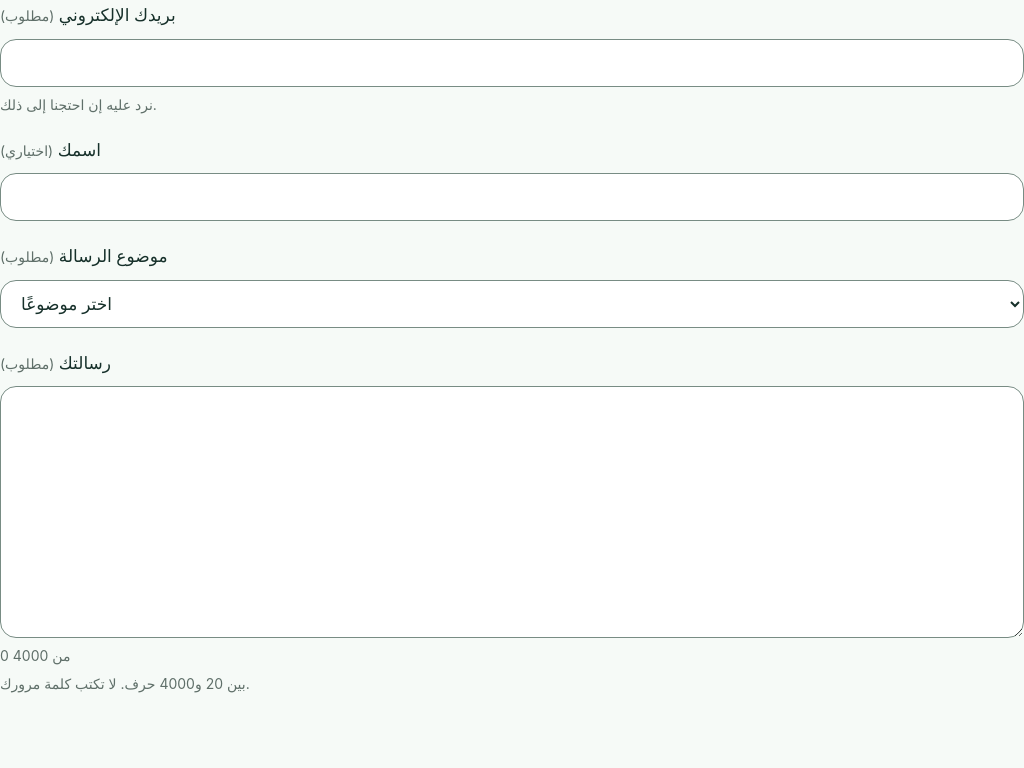
support form › sends the token, then resets the widget
In the field labelled "بريدك الإلكتروني (مطلوب)": (512,63) [0, 39, 1023, 87], type "ahmad@example.com"
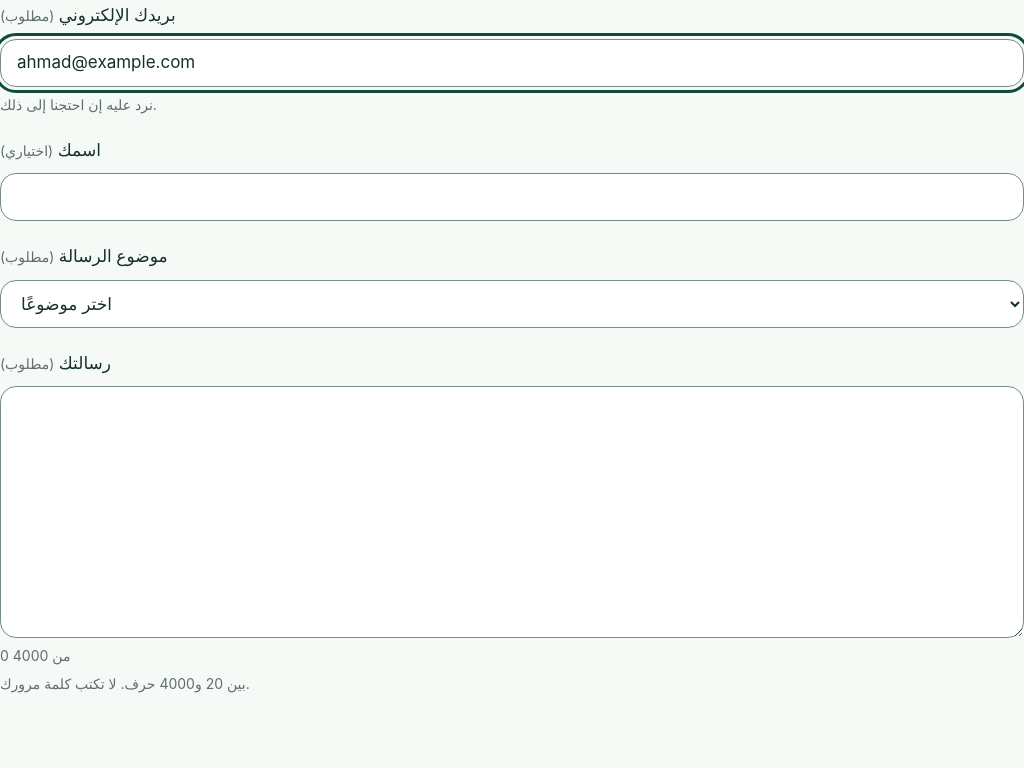
Select "خطأ في التطبيق" in the dropdown labelled "موضوع الرسالة (مطلوب)": (512,304) [0, 280, 1023, 328]
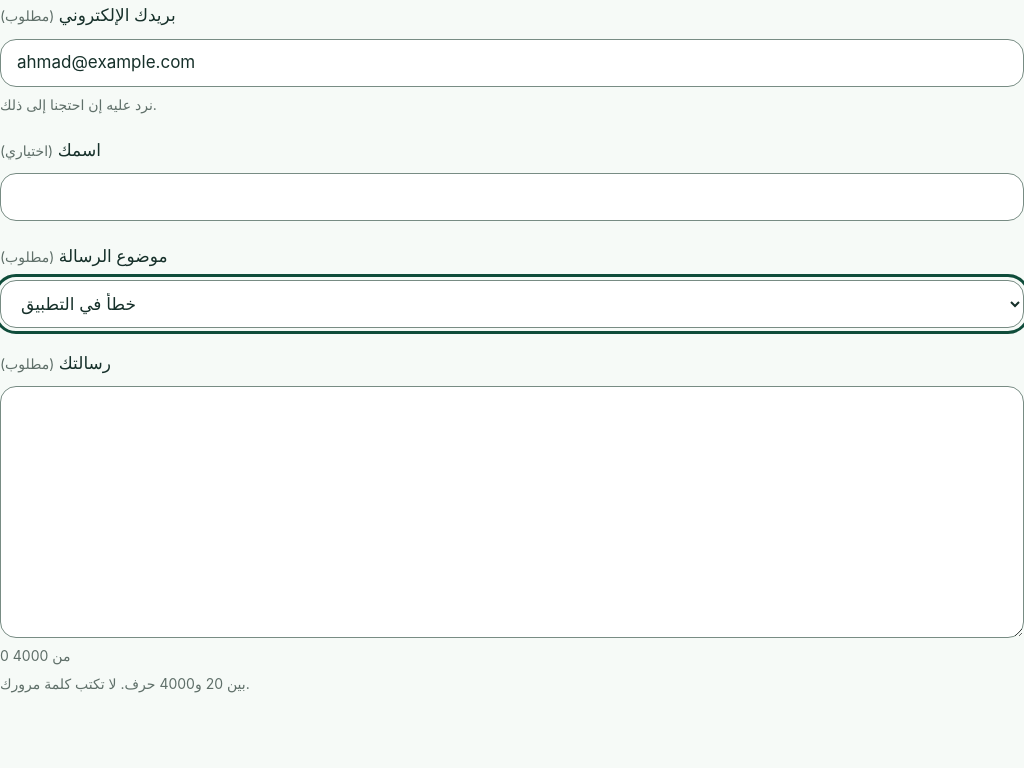
In the text box labelled "رسالتك (مطلوب)": (512,512) [0, 386, 1023, 638], type "مرحبًا، أحتاج مساعدة في حسابي من فضلكم."
(page scrolled)
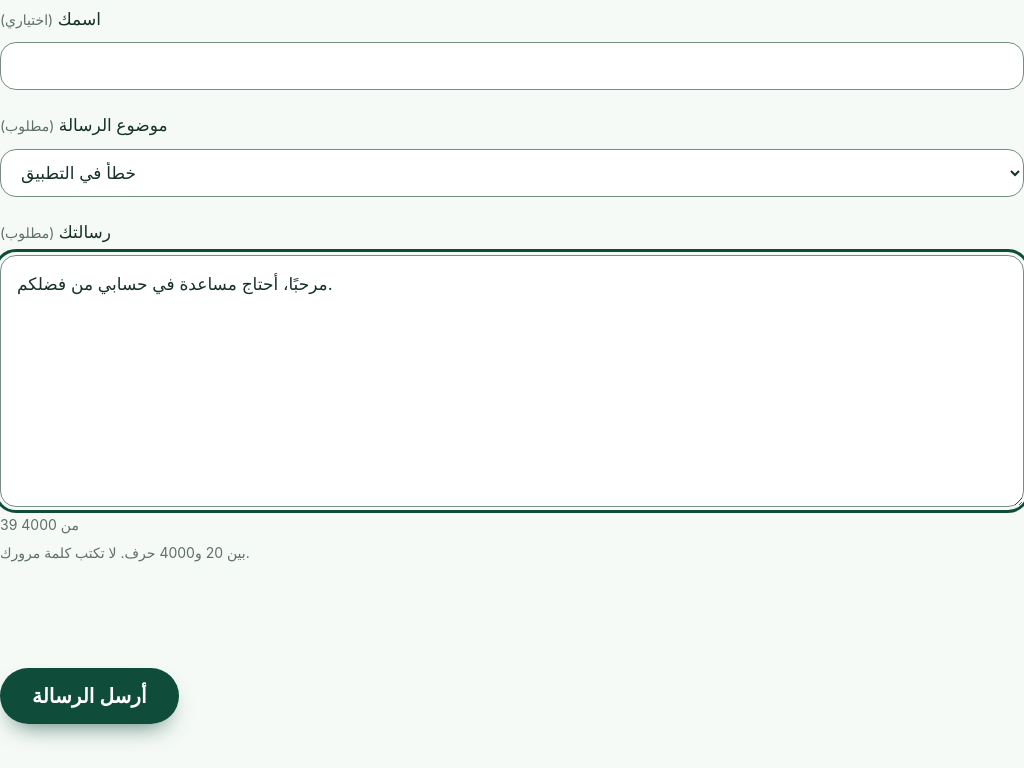
Click the button "أرسل الرسالة": (89,696) [0, 668, 178, 724]
(page scrolled)
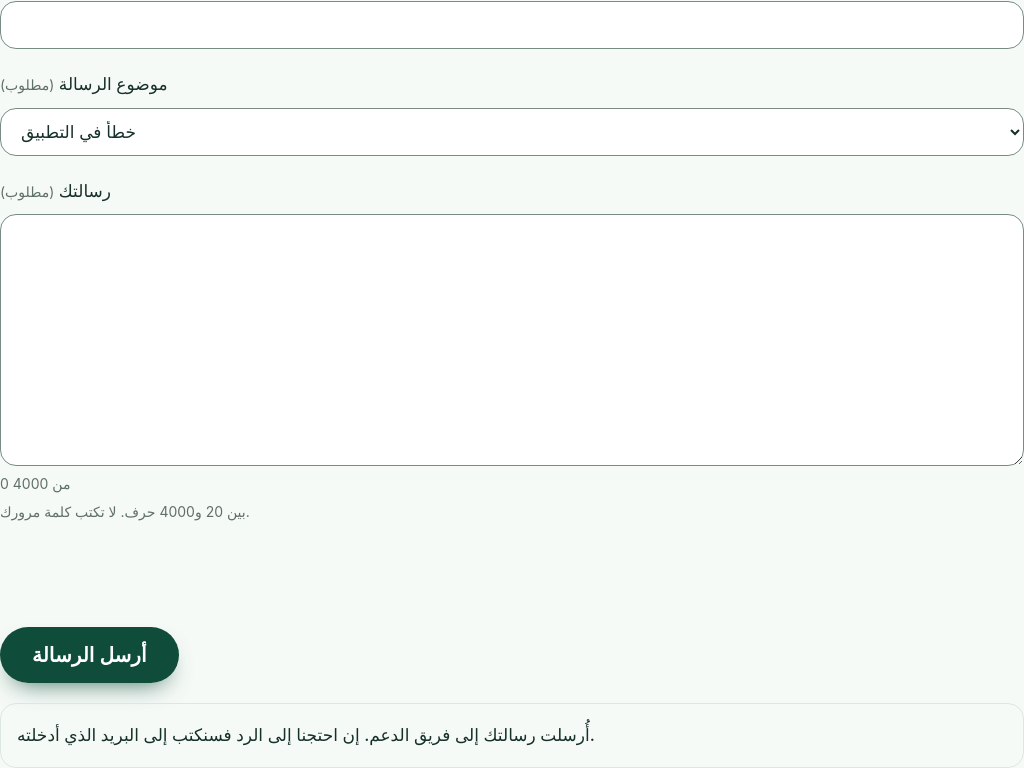
Check: the text "أُرسلت رسالتك إلى فريق الدعم. إن احتجنا إلى الرد فسنكتب إلى البريد الذي أدخلته." is shown, box [0, 704, 1023, 767]
